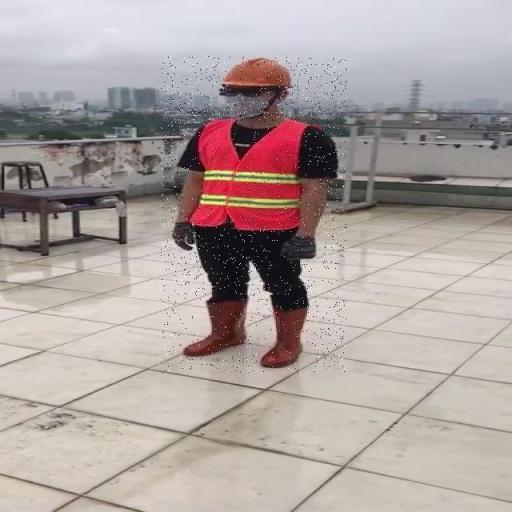Boots: (176, 295, 250, 358), (257, 302, 310, 368)
Helmet: (225, 57, 296, 88)
Person: (161, 56, 346, 373)
